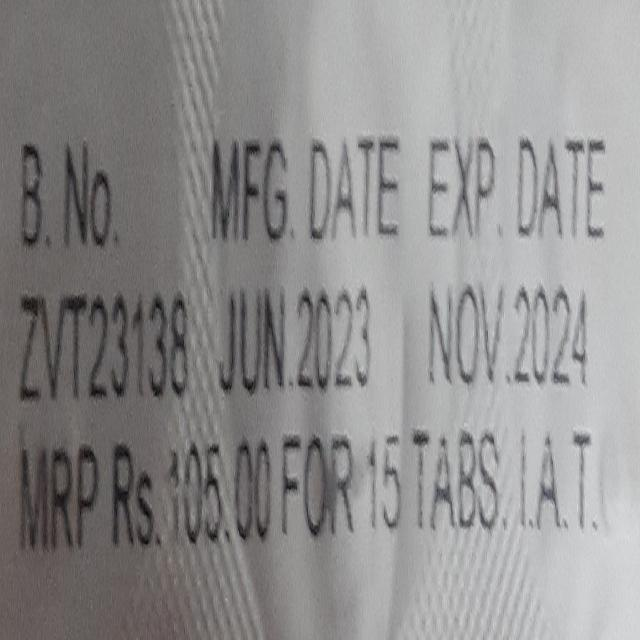sentence: (211, 135, 400, 245), (20, 135, 120, 269), (22, 144, 41, 245), (475, 139, 494, 231)
